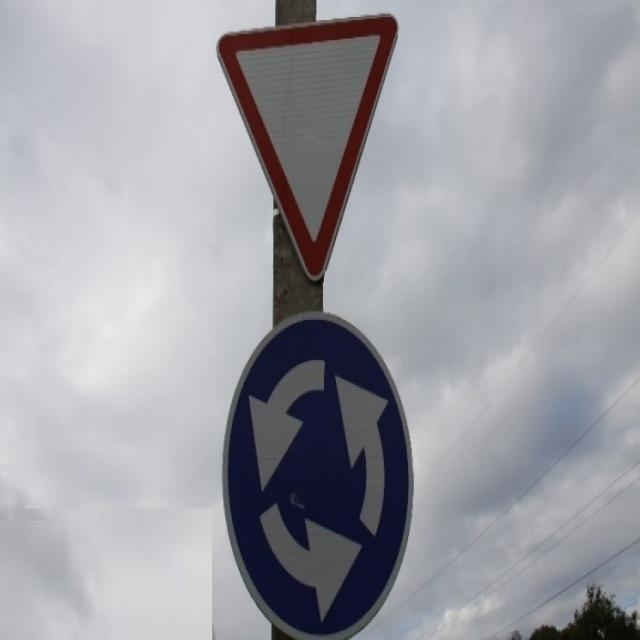roundabout: (215, 305, 419, 640)
